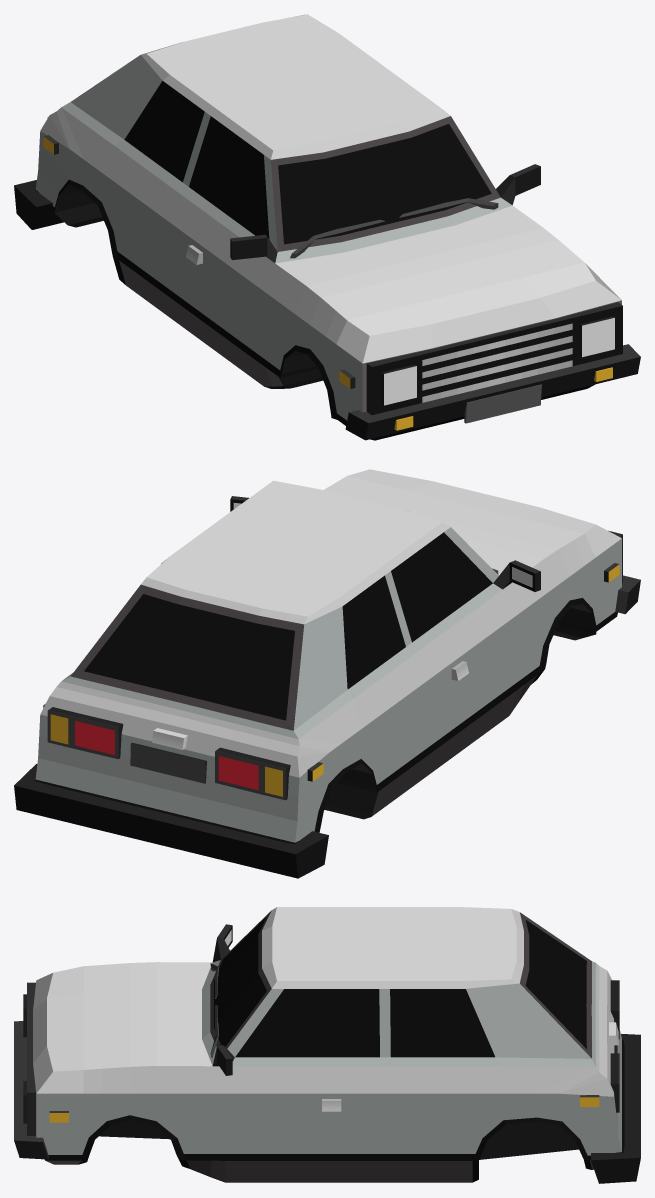
File: Coupe.fbx
3 views of the same model, one above another, from view 1: azimuth 30°, elevation 25°; view 2: azimuth 150°, elevation 25°; view 3: azimuth 270°, elevation 25° (orthographic). The views are drawn at different scales.
Visible parts, largest first — view 1: Coupe; view 2: Coupe; view 3: Coupe.
Boxes of the visible parts, x1,y1,x2,y2 form: Coupe: [14, 14, 640, 440]; Coupe: [14, 469, 640, 878]; Coupe: [14, 907, 640, 1183].
Bounding box in the file's own units: 1.75 × 1.14 × 3.44.
